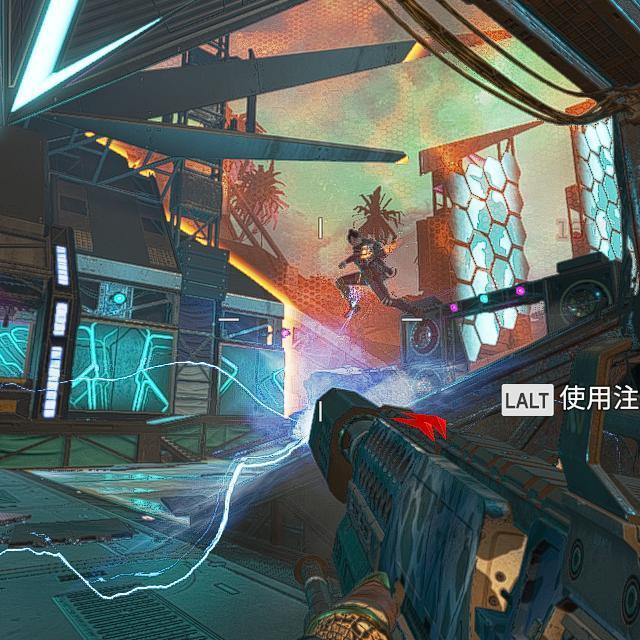avatar: (335, 227, 396, 318)
